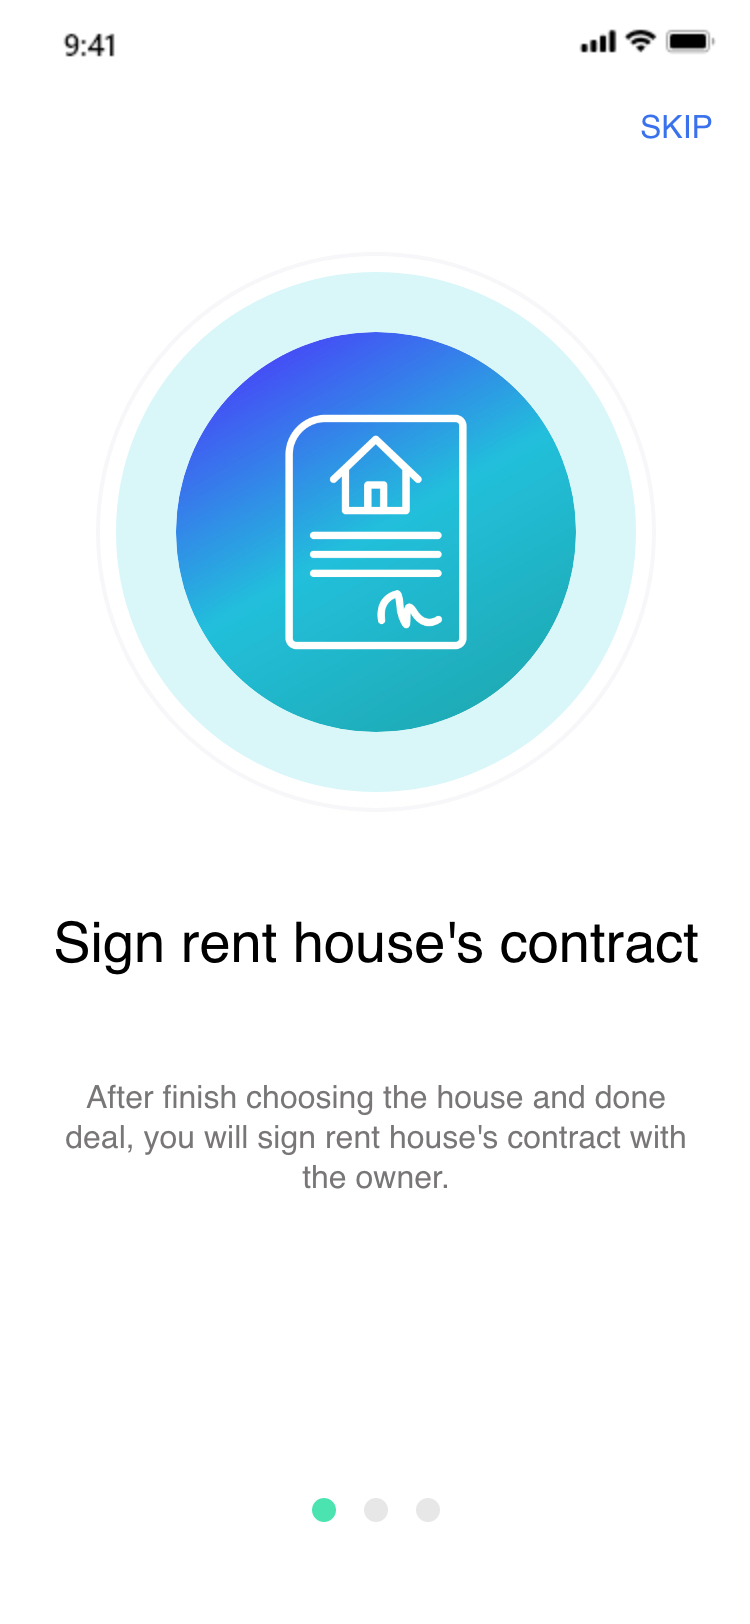Image: (95, 248, 658, 814)
PageIndicator: (311, 1497, 442, 1524)
Text: (65, 1082, 687, 1191), (55, 918, 700, 976), (640, 111, 712, 141)
UpperTaskBar: (63, 28, 716, 59)
